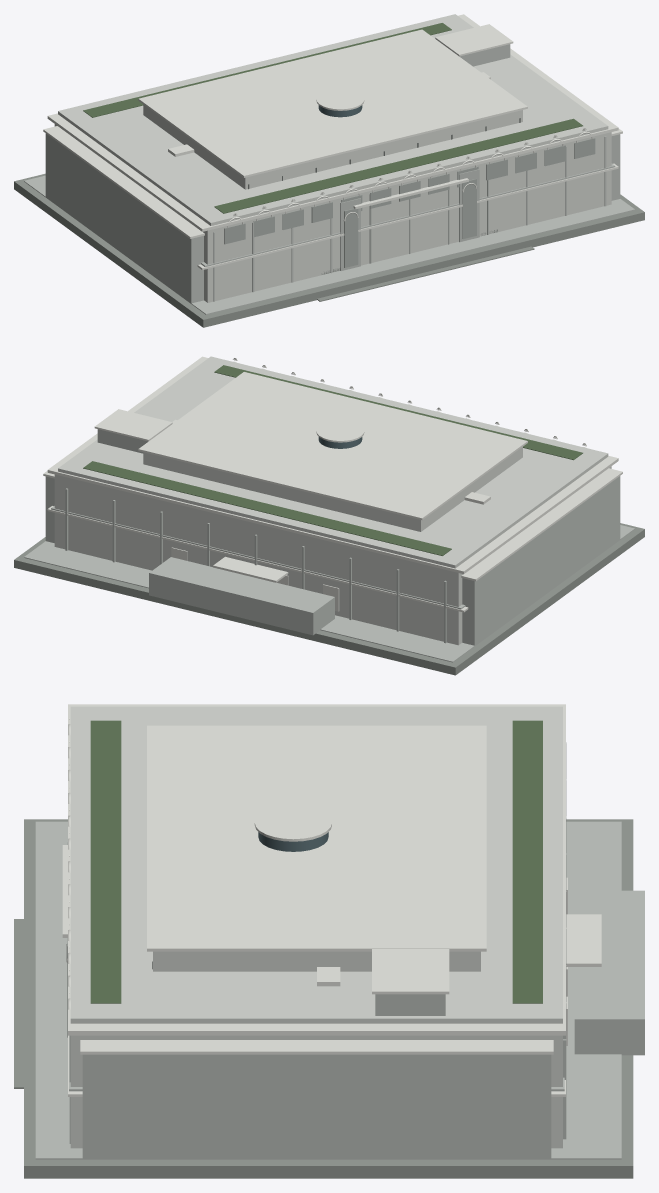
The picture shows the model from 3 angles, top to bottom: view 1: azimuth 30°, elevation 25°; view 2: azimuth 150°, elevation 25°; view 3: azimuth 270°, elevation 25°; orthographic projection. The views are drawn at different scales.
Bounding box in the file's own units: 3.52 × 0.8635 × 2.71.
